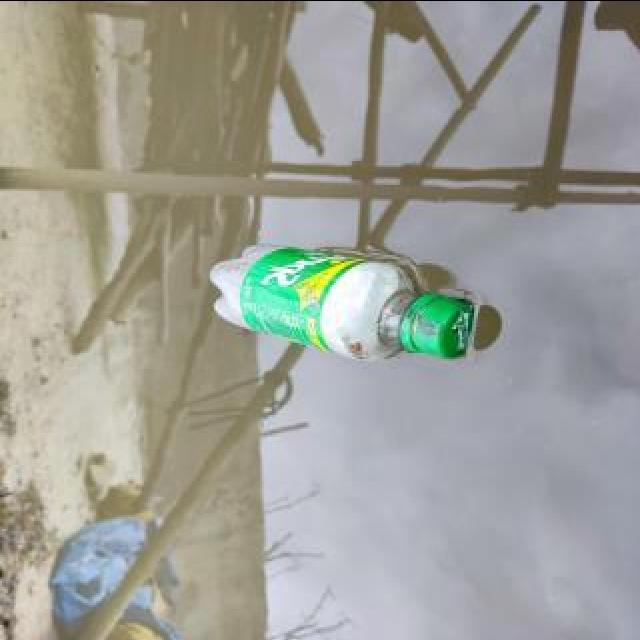Bottle: (199, 230, 489, 376)
